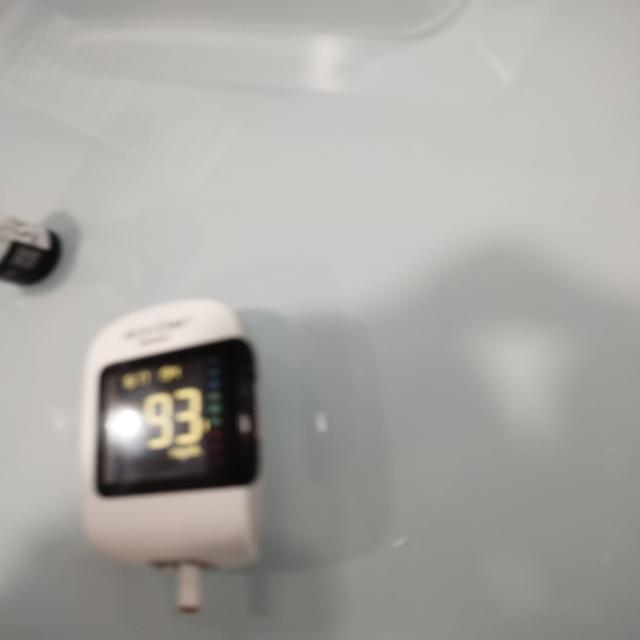gluco: (86, 324, 261, 592)
